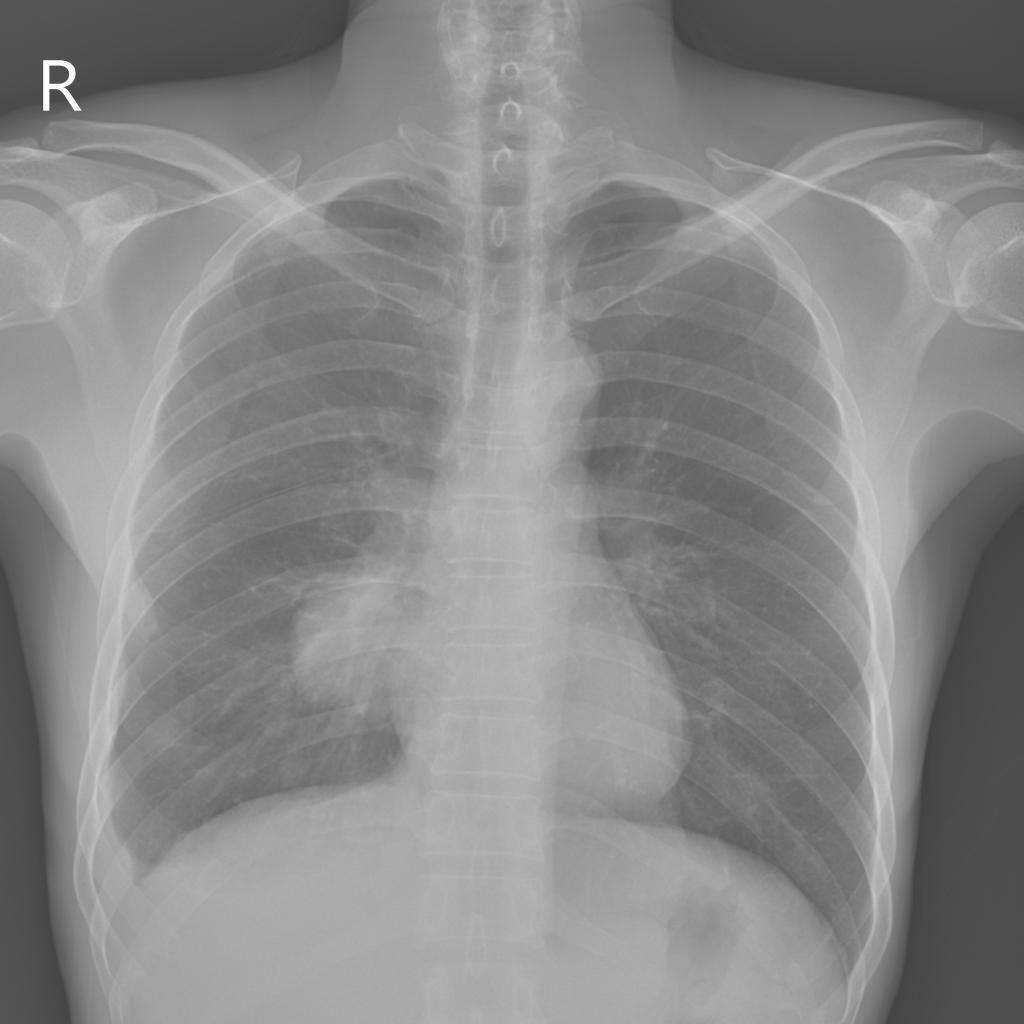Nodule: (296, 570, 407, 702)
